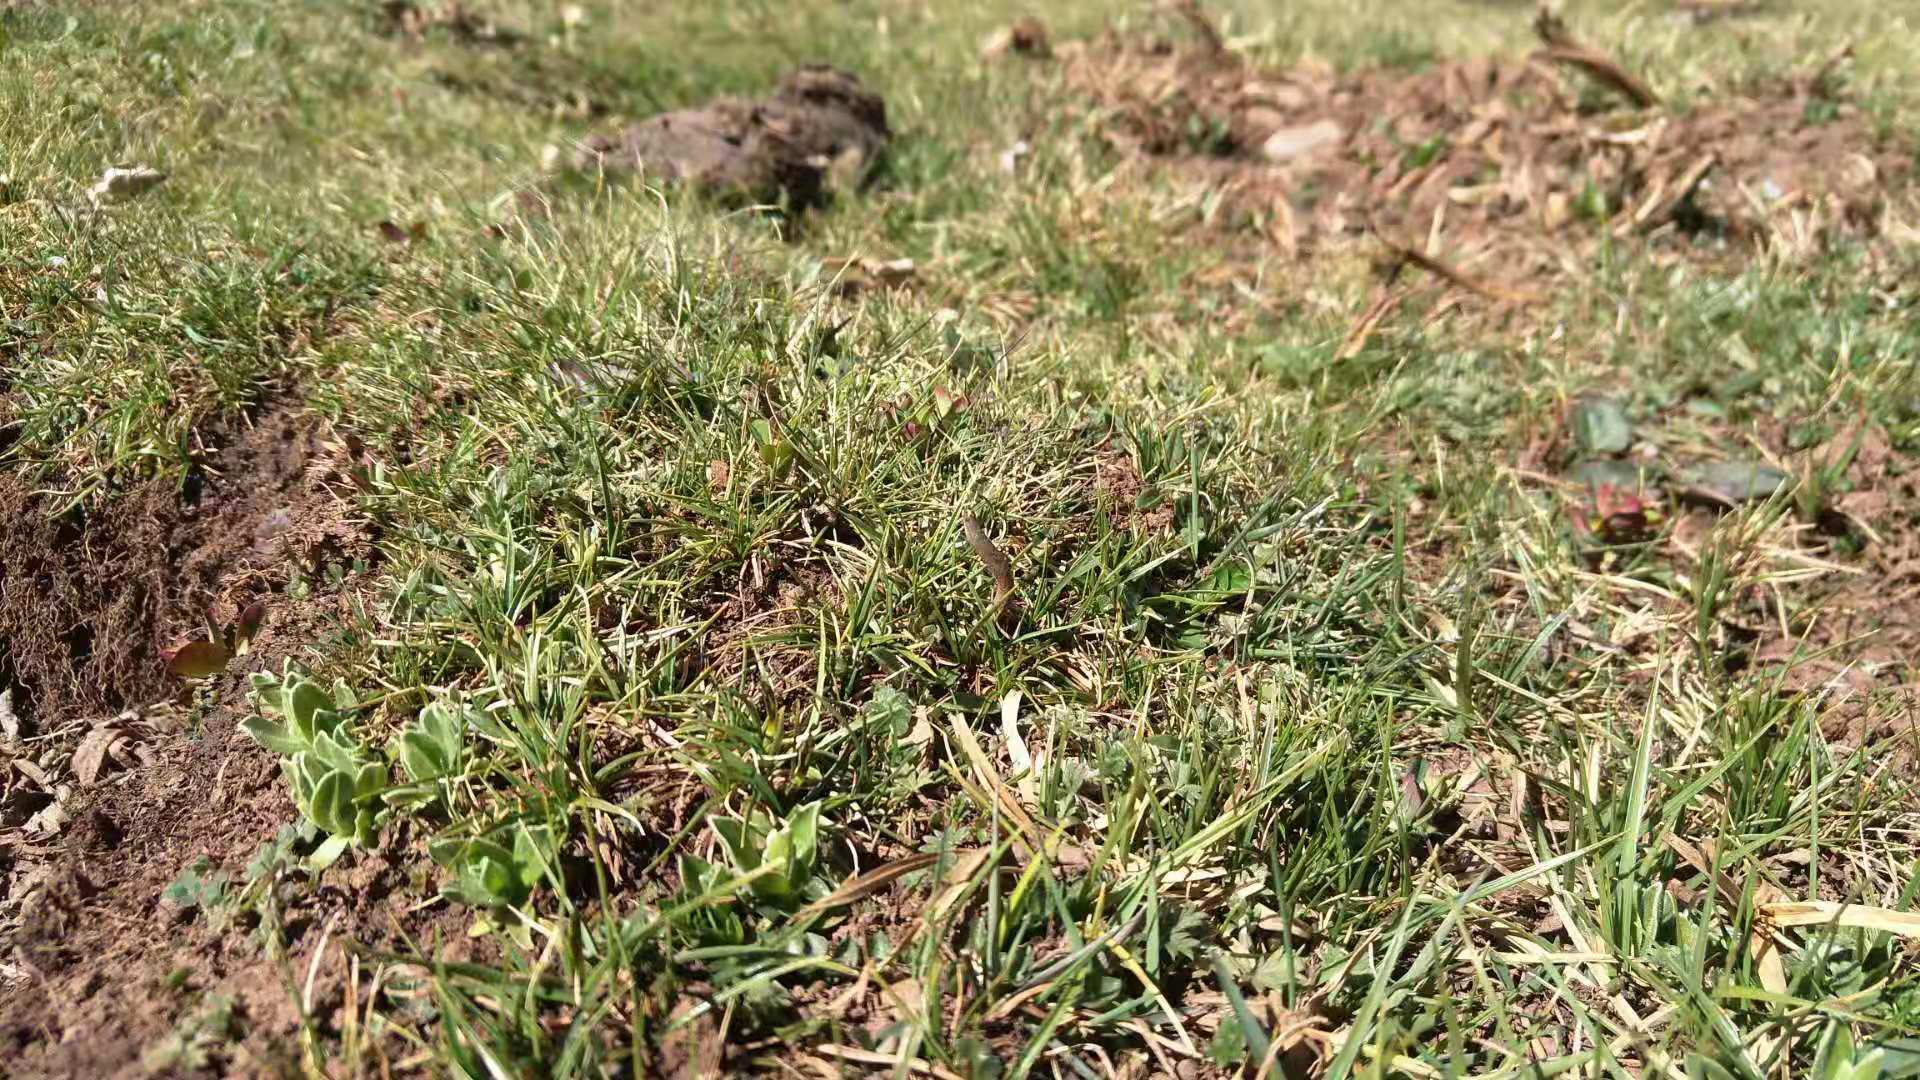cpf: (957, 505, 1013, 630)
